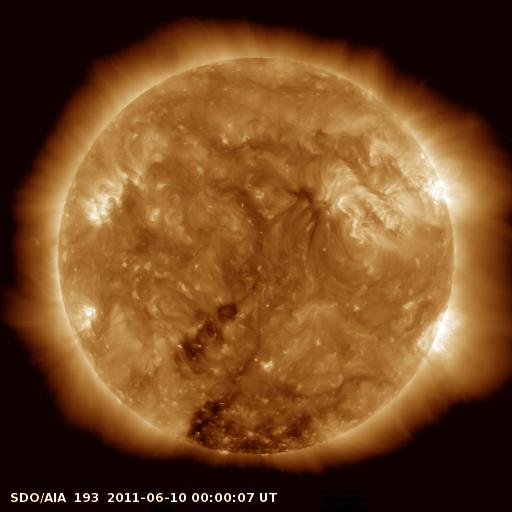coronal_hole: (188, 395, 332, 459), (181, 304, 237, 358)
